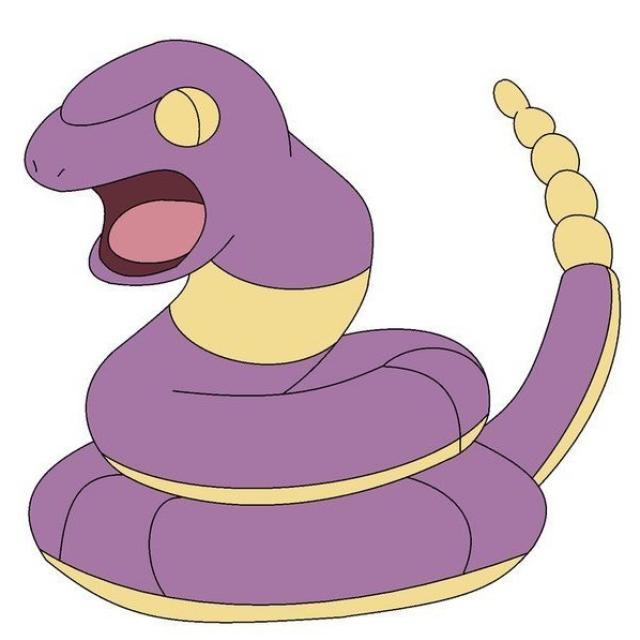Ekans: (16, 34, 613, 623)
